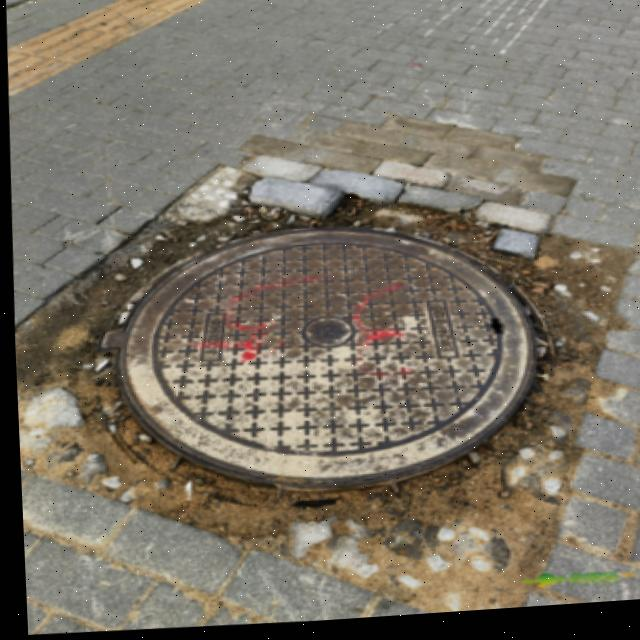manhole: (44, 168, 608, 573)
